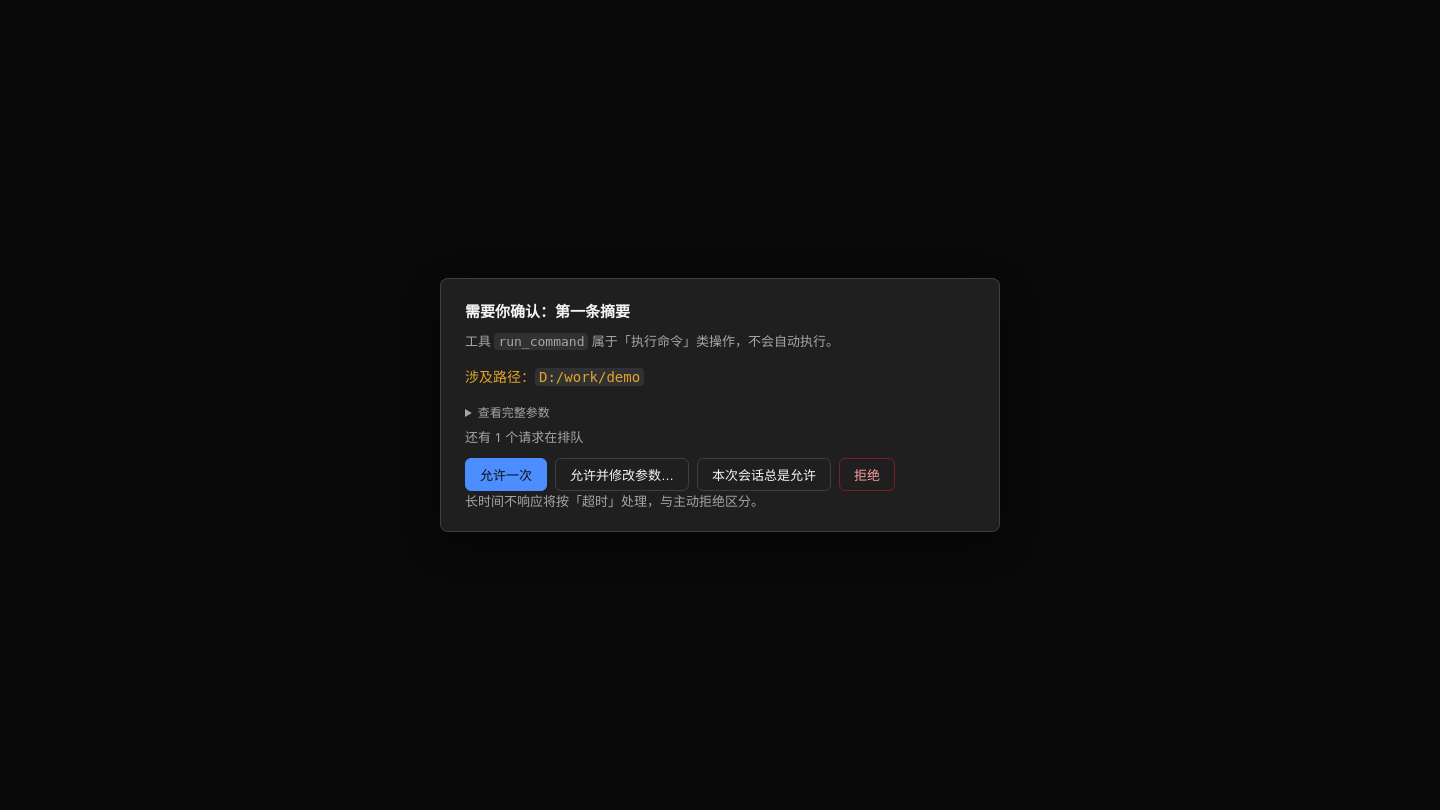
Test: 审批弹窗：内容看得见、决定传得出去 › 多个请求串行展示（一次只点一个），并如实报"还有几个在排队"
Expected: the text "还有 1 个请求在排队" is shown, top-left (465, 428), bottom-right (583, 446)
Expected: the heading "需要你确认：第一条摘要" is shown, top-left (465, 301), bottom-right (630, 321)
队列前进也在异步那一拍之后：等它，再问"现在显示的是第二条"（不存在"批量确认"）
Step 1. Click the button "拒绝" → coordinates (867, 474), box top-left (839, 458), bottom-right (895, 491)
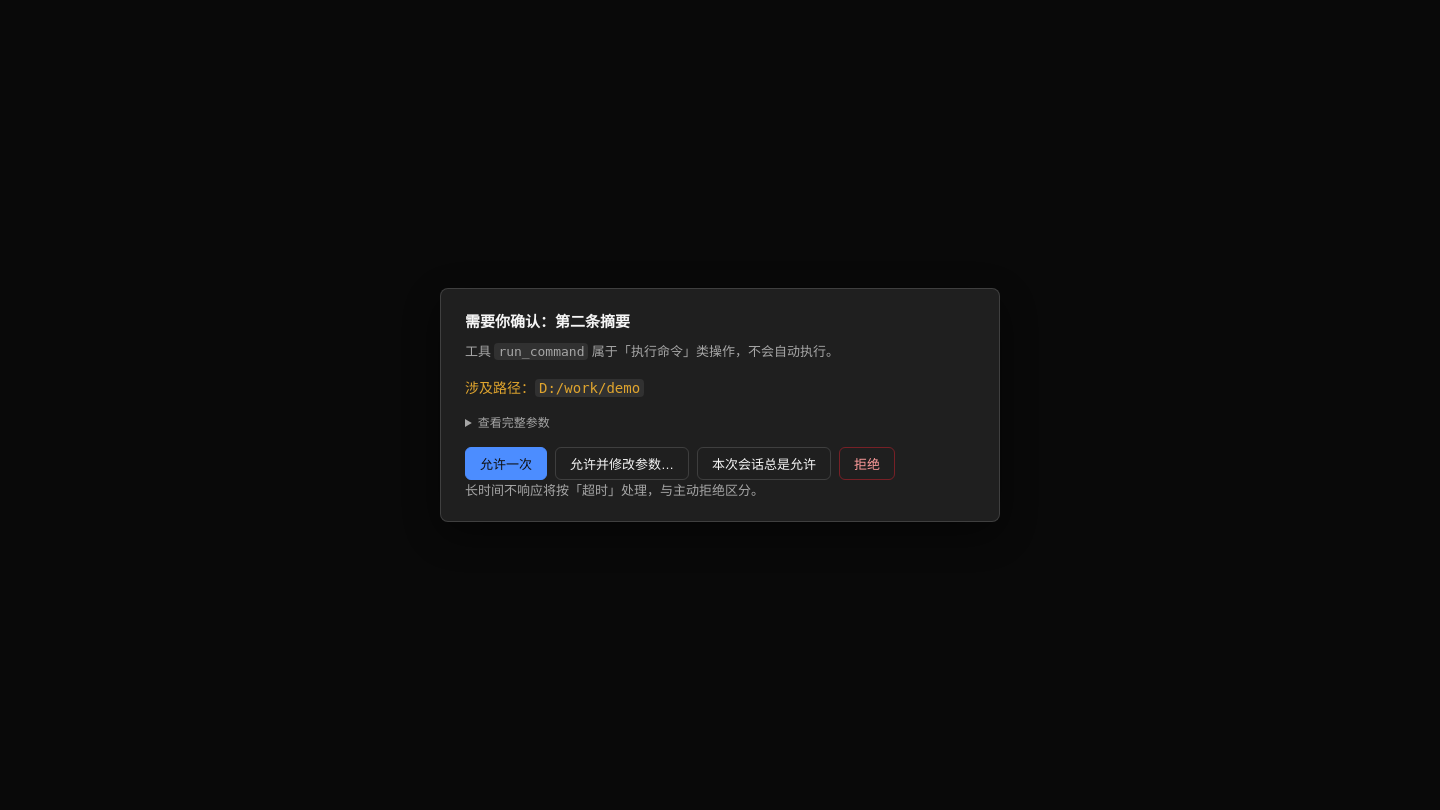
Now the heading "需要你确认：第二条摘要" is shown, box top-left (465, 311), bottom-right (630, 331)
